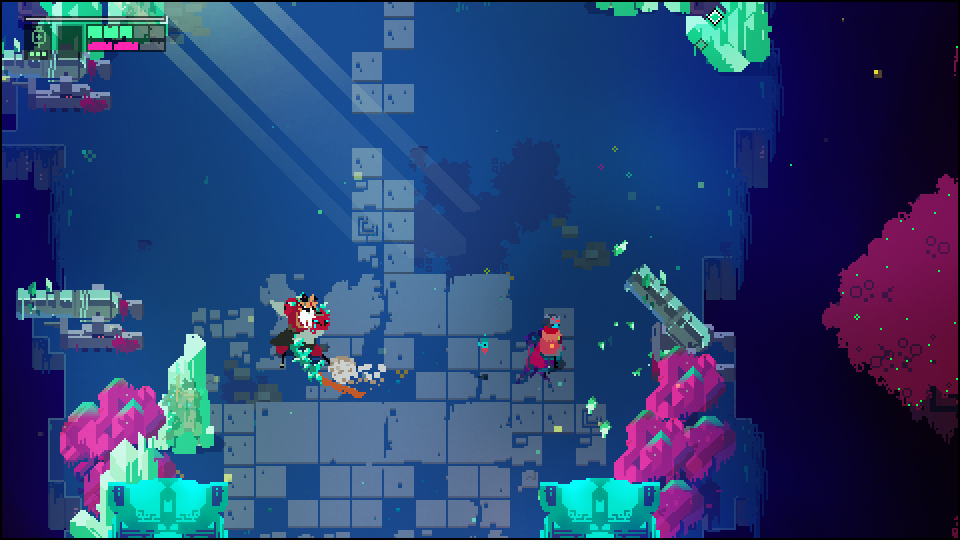hanged_man: (265, 290, 342, 394)
player: (537, 316, 569, 369)
